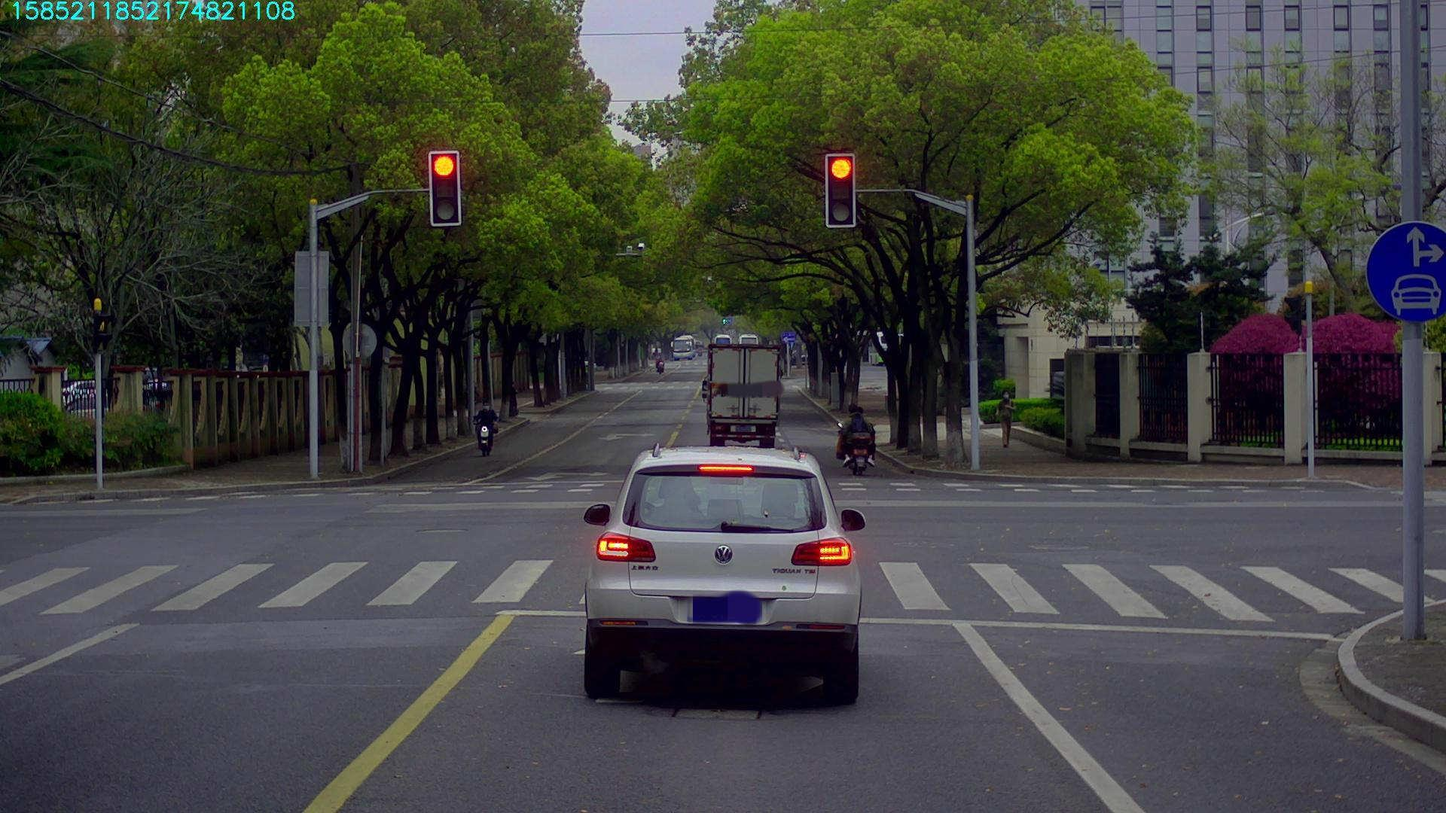red: (429, 152, 459, 224), (825, 154, 854, 226)
